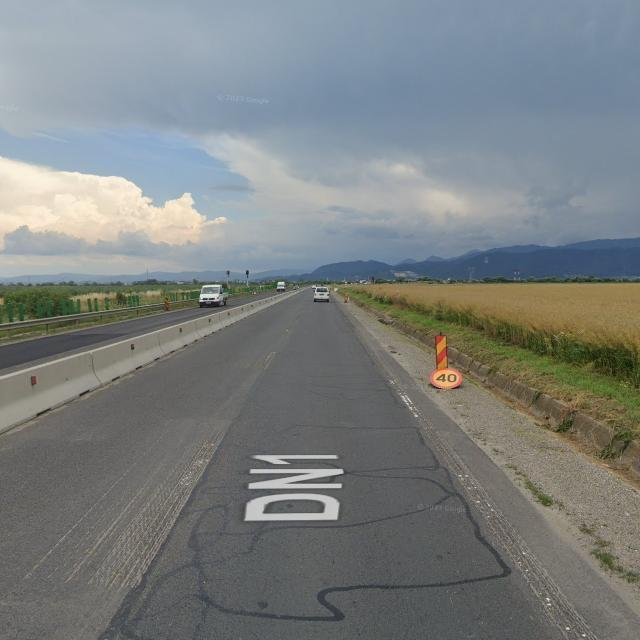forb_speed_over_40: (431, 368, 465, 391)
